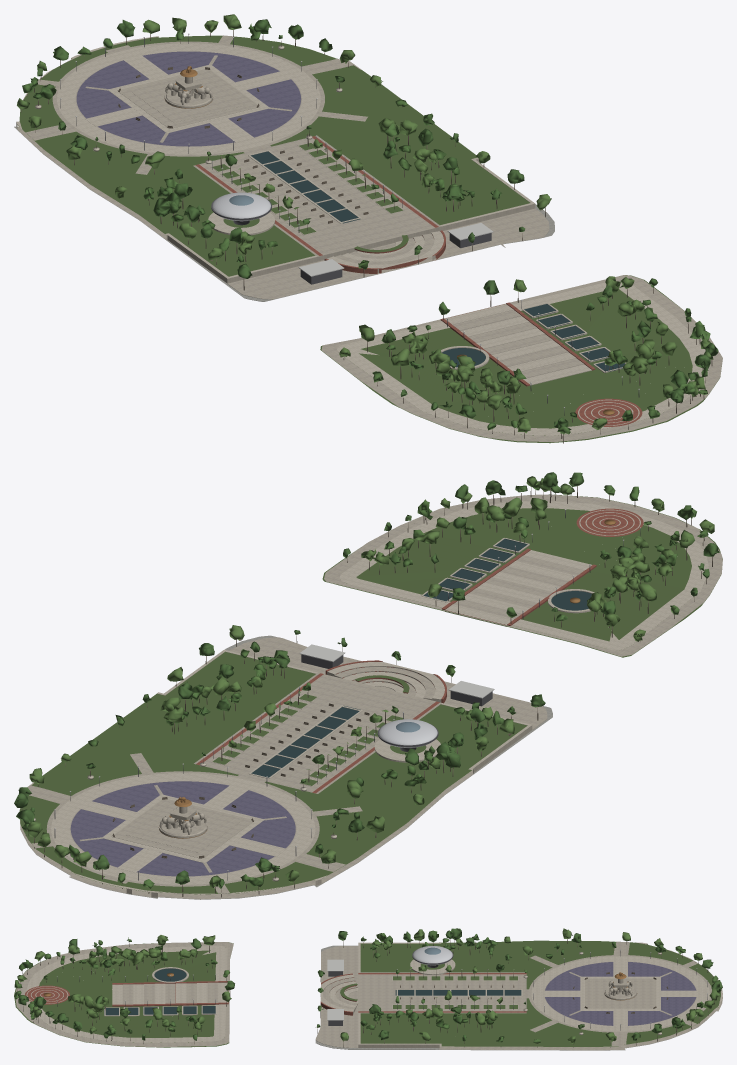
3 renders of one model, top to bottom at view 1: azimuth 30°, elevation 25°; view 2: azimuth 150°, elevation 25°; view 3: azimuth 270°, elevation 25°, orthographic. The views are drawn at different scales.
Parts seen in each view (by area): view 1: JINHU_MAT_Lawn, JINHU_MAT_PlazaGranite, JINHU_MAT_PlazaLight, JINHU_MAT_LeafB, JINHU_MAT_PurpleStone, JINHU_MAT_LeafC, JINHU_MAT_LeafA, JINHU_MAT_RedGranite, JINHU_MAT_Water, JINHU_MAT_Bark, JINHU_MAT_MetalDark, JINHU_ELEPHANT_stone (+3 smaller); view 2: JINHU_MAT_Lawn, JINHU_MAT_PlazaGranite, JINHU_MAT_PlazaLight, JINHU_MAT_LeafB, JINHU_MAT_PurpleStone, JINHU_MAT_LeafC, JINHU_MAT_LeafA, JINHU_MAT_Water, JINHU_MAT_RedGranite, JINHU_MAT_Bark, JINHU_MAT_MetalDark, JINHU_ELEPHANT_stone (+3 smaller); view 3: JINHU_MAT_Lawn, JINHU_MAT_PlazaGranite, JINHU_MAT_PlazaLight, JINHU_MAT_LeafB, JINHU_MAT_PurpleStone, JINHU_MAT_LeafC, JINHU_MAT_LeafA, JINHU_MAT_RedGranite, JINHU_MAT_Water, JINHU_MAT_Bark, JINHU_MAT_Sidewalk, JINHU_ELEPHANT_stone (+3 smaller).
Boxes of the visible parts, x1,y1,x2,y2 form: JINHU_MAT_Lawn: [18, 35, 721, 443]; JINHU_MAT_PlazaGranite: [16, 35, 722, 442]; JINHU_MAT_PlazaLight: [16, 36, 709, 435]; JINHU_MAT_LeafB: [17, 14, 713, 433]; JINHU_MAT_PurpleStone: [76, 51, 301, 146]; JINHU_MAT_LeafC: [33, 19, 718, 428]; JINHU_MAT_LeafA: [22, 23, 710, 434]; JINHU_MAT_RedGranite: [195, 136, 642, 426]; JINHU_MAT_Water: [251, 151, 624, 371]; JINHU_MAT_Bark: [21, 30, 712, 443]; JINHU_MAT_MetalDark: [60, 35, 639, 415]; JINHU_ELEPHANT_stone: [164, 77, 212, 108]; JINHU_MAT_Lawn: [19, 494, 722, 894]; JINHU_MAT_PlazaGranite: [20, 494, 722, 899]; JINHU_MAT_PlazaLight: [30, 501, 708, 894]; JINHU_MAT_LeafB: [27, 476, 714, 887]; JINHU_MAT_PurpleStone: [70, 781, 295, 876]; JINHU_MAT_LeafC: [14, 472, 719, 888]; JINHU_MAT_LeafA: [22, 484, 708, 888]; JINHU_MAT_Water: [251, 539, 591, 777]; JINHU_MAT_RedGranite: [196, 508, 643, 793]; JINHU_MAT_Bark: [21, 486, 712, 897]; JINHU_MAT_MetalDark: [54, 510, 640, 880]; JINHU_ELEPHANT_stone: [159, 806, 207, 838]; JINHU_MAT_Lawn: [14, 940, 720, 1047]; JINHU_MAT_PlazaGranite: [15, 941, 722, 1050]; JINHU_MAT_PlazaLight: [26, 942, 722, 1046]; JINHU_MAT_LeafB: [17, 928, 720, 1043]; JINHU_MAT_PurpleStone: [545, 962, 696, 1025]; JINHU_MAT_LeafC: [18, 928, 722, 1041]; JINHU_MAT_LeafA: [14, 933, 718, 1043]; JINHU_MAT_RedGranite: [25, 973, 526, 1015]; JINHU_MAT_Water: [104, 968, 521, 1015]; JINHU_MAT_Bark: [17, 939, 714, 1047]; JINHU_MAT_Sidewalk: [315, 945, 722, 1050]; JINHU_ELEPHANT_stone: [604, 979, 636, 1000].
Bounding box in the file's own units: 155 × 17.22 × 438.
Materials: 17 (11 with a texture image).
